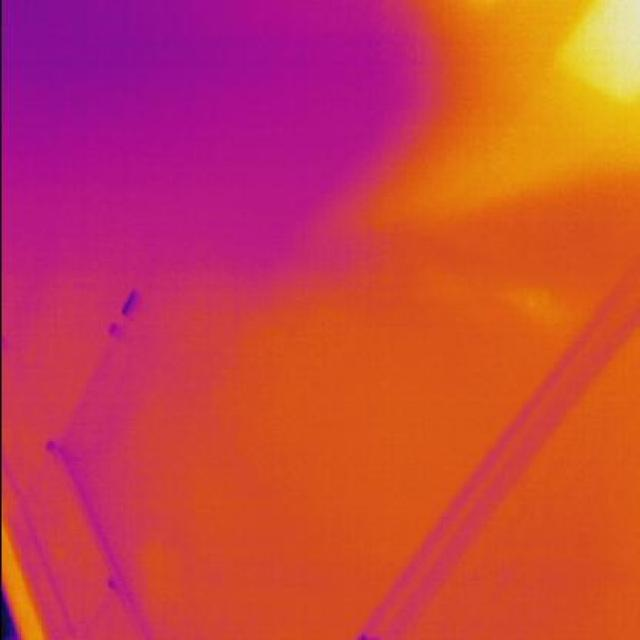hotspot: (551, 0, 638, 111)
